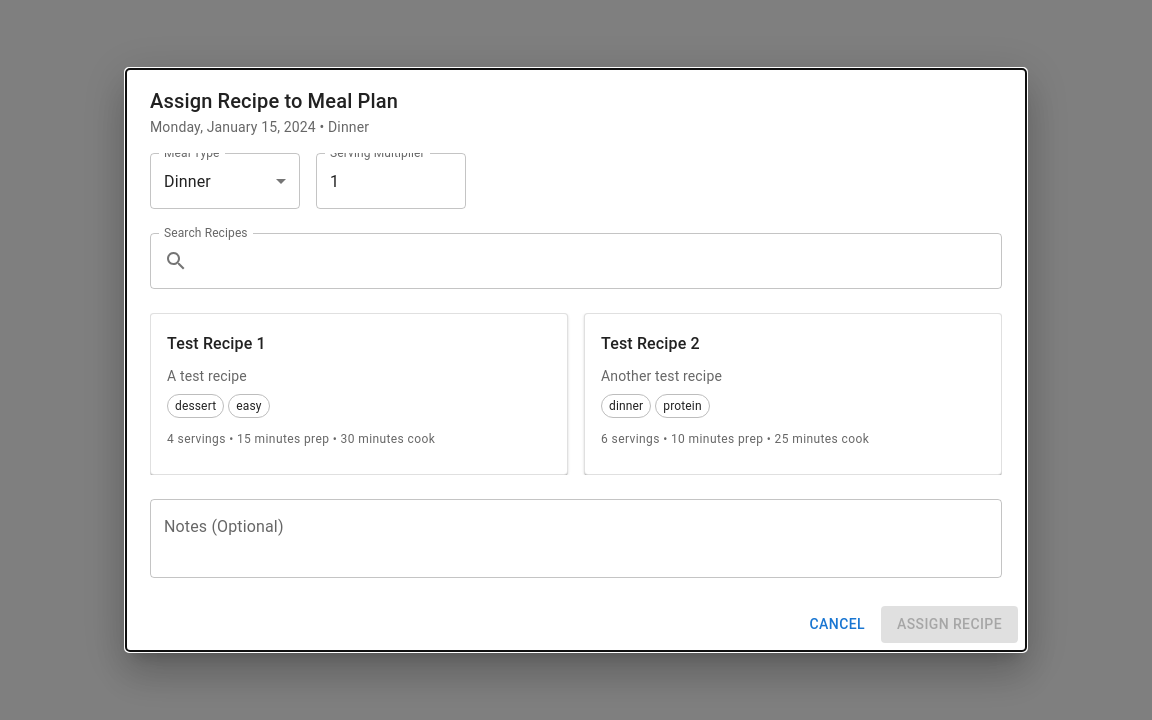
Test: RecipeAssignmentDialog › filters recipes based on search query
Check: the heading "Test Recipe 1" is shown, box [167,334,266,353]
Check: the heading "Test Recipe 2" is shown, box [601,334,700,353]
Type "chicken" into the field labelled "Search Recipes". click: (599, 261)
box: [196,233,1002,289]
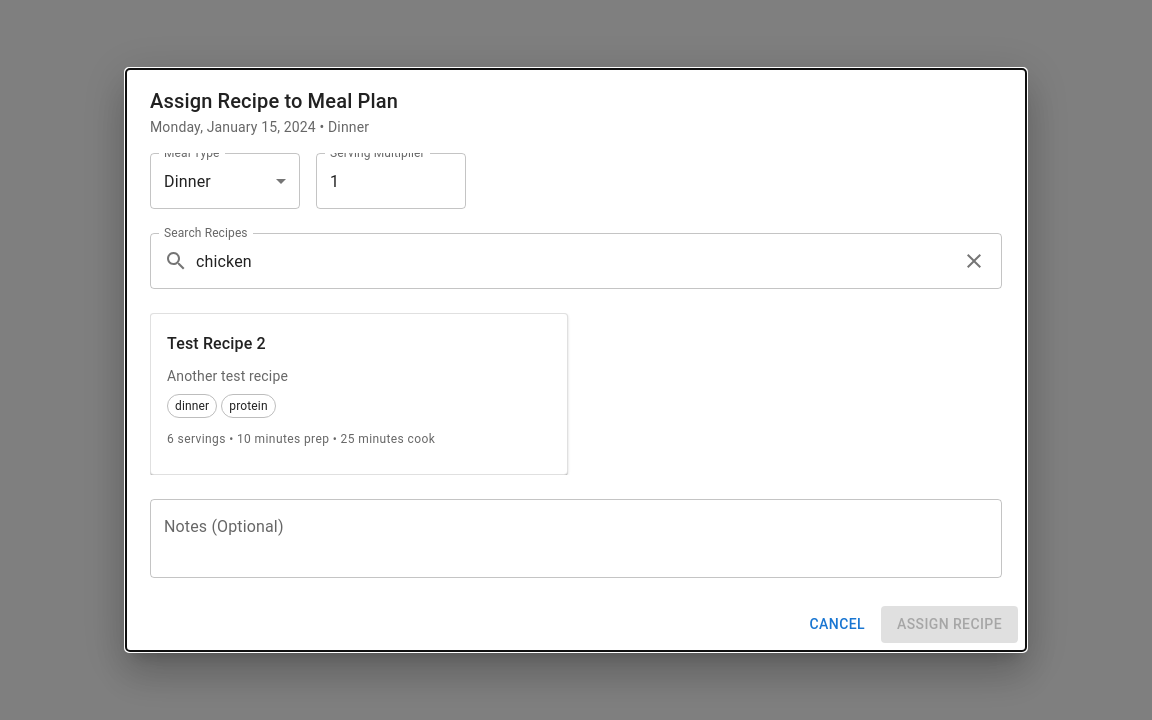
Check: the heading "Test Recipe 2" is shown, box [167,334,266,353]
Check: the heading "Test Recipe 1" is gone
